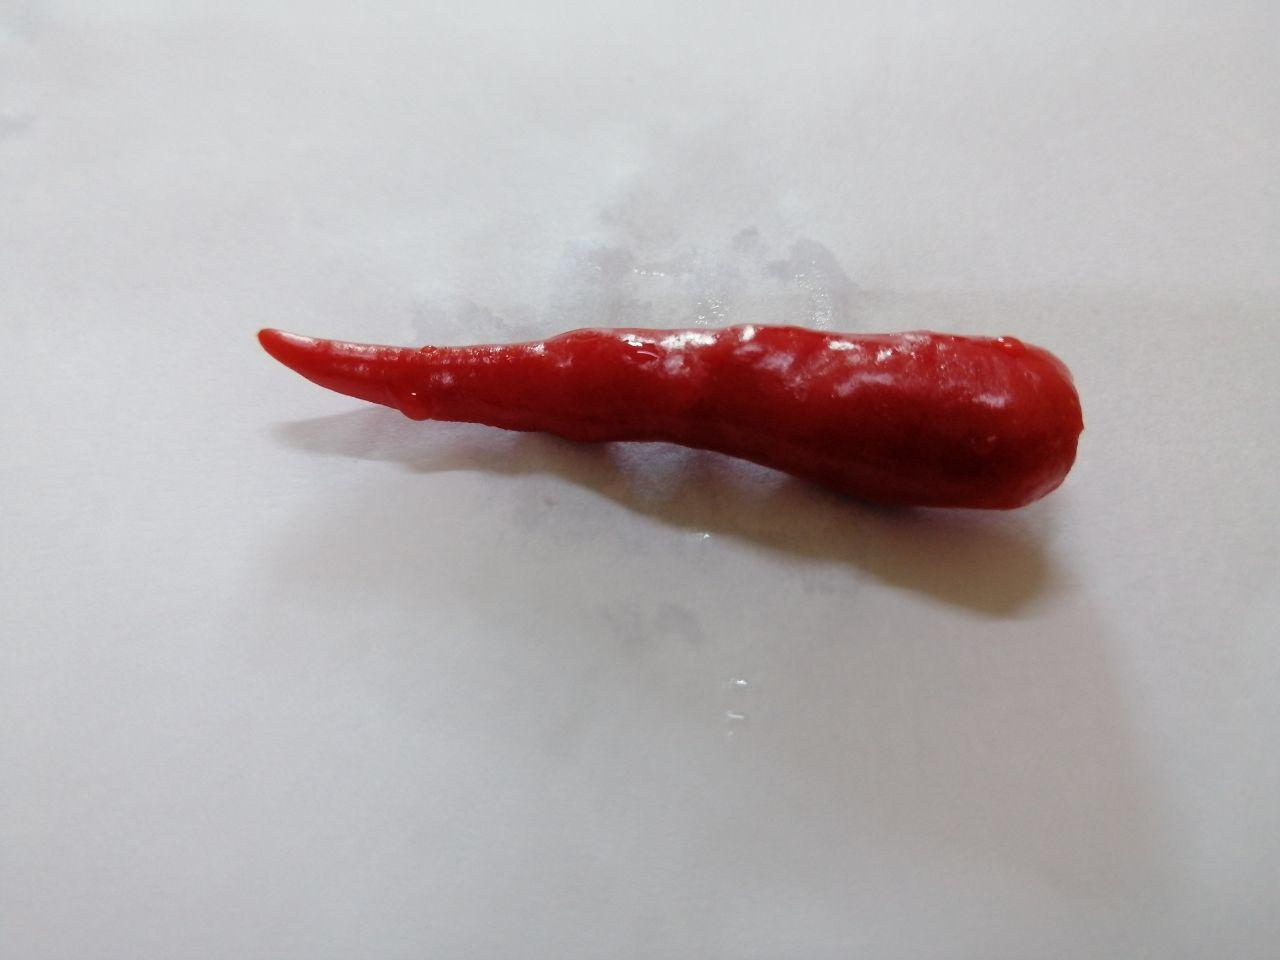lada merah: (243, 272, 1097, 567)
